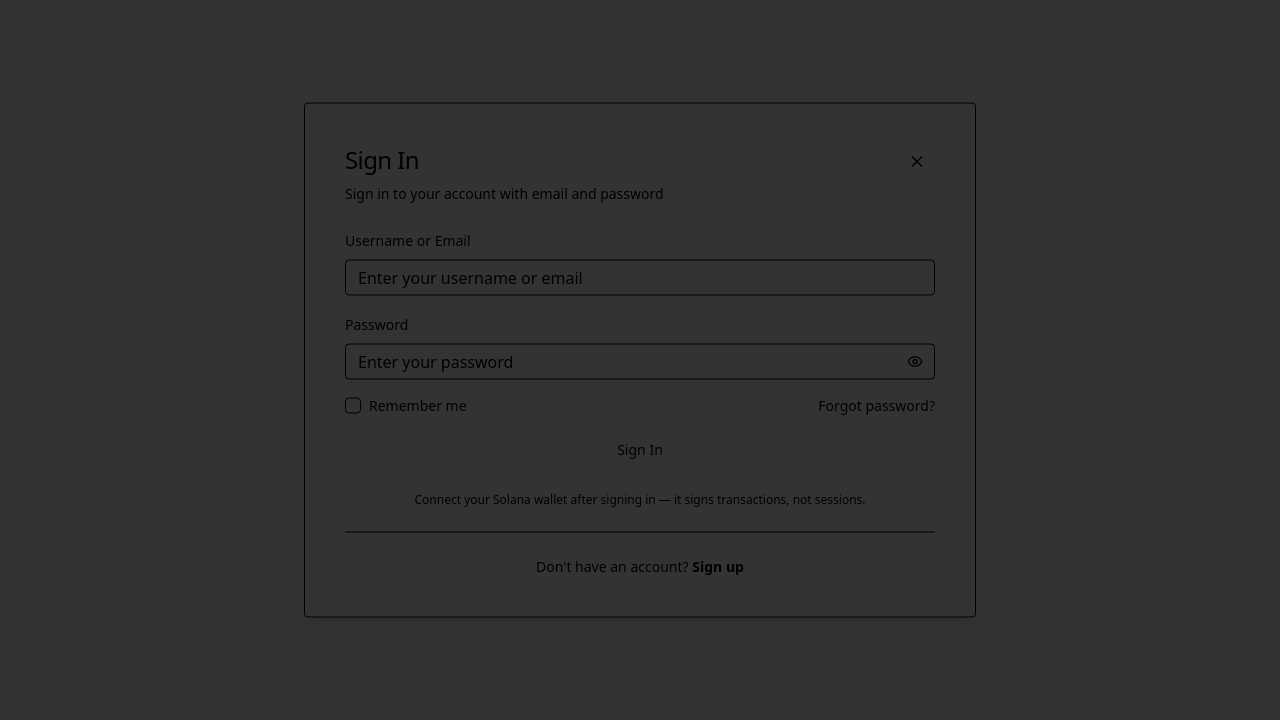
Test: WalletModal email sign-in failure › still logs a failure the UI cannot explain
This screenshot has width=1280, height=720.
In the field labelled "Username or Email": (640,278) [345, 260, 935, 296], type "testuser"
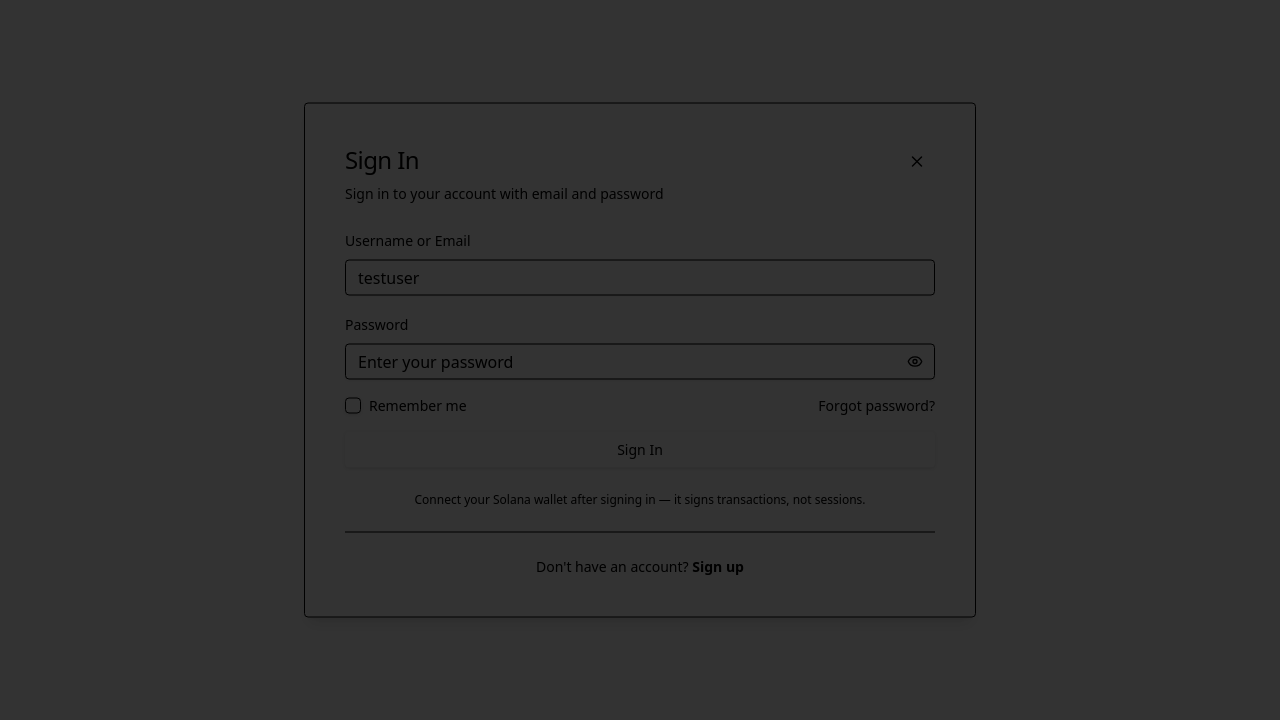
In the password field labelled "Password": (640,362) [345, 344, 935, 380], type "wrongpassword1!"
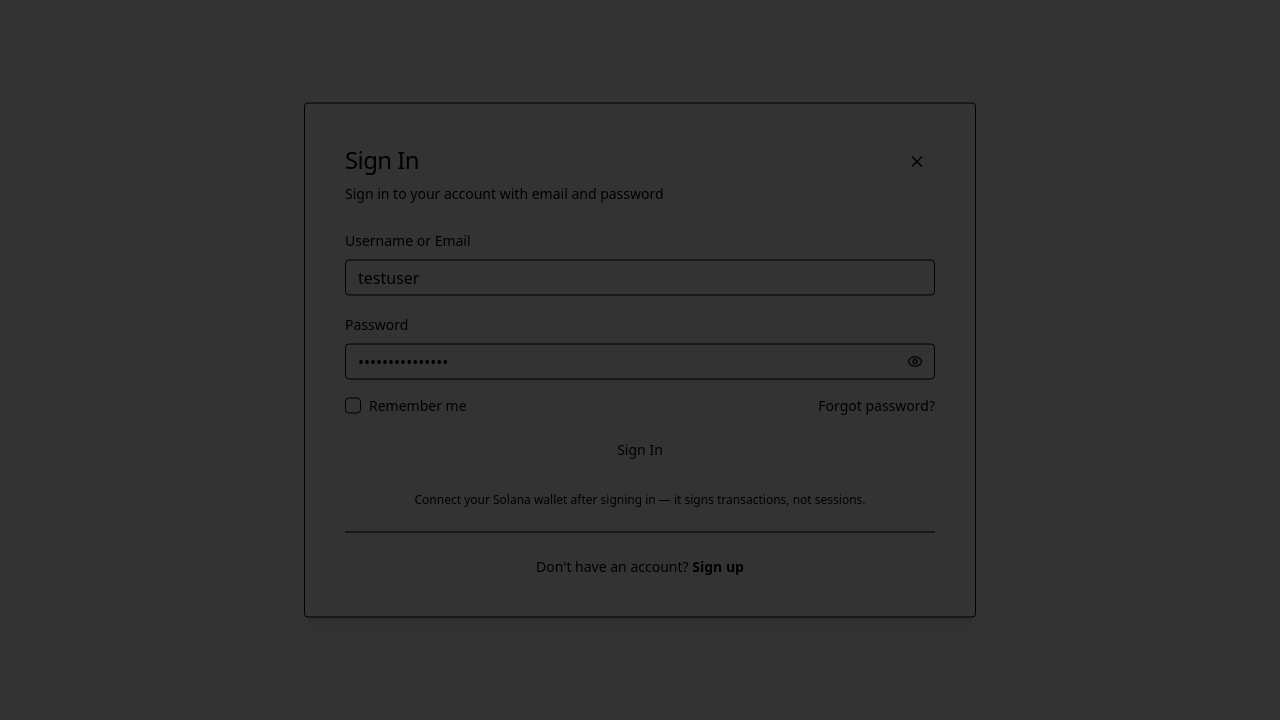
Click the button "Sign In": (640,450) [345, 432, 935, 468]
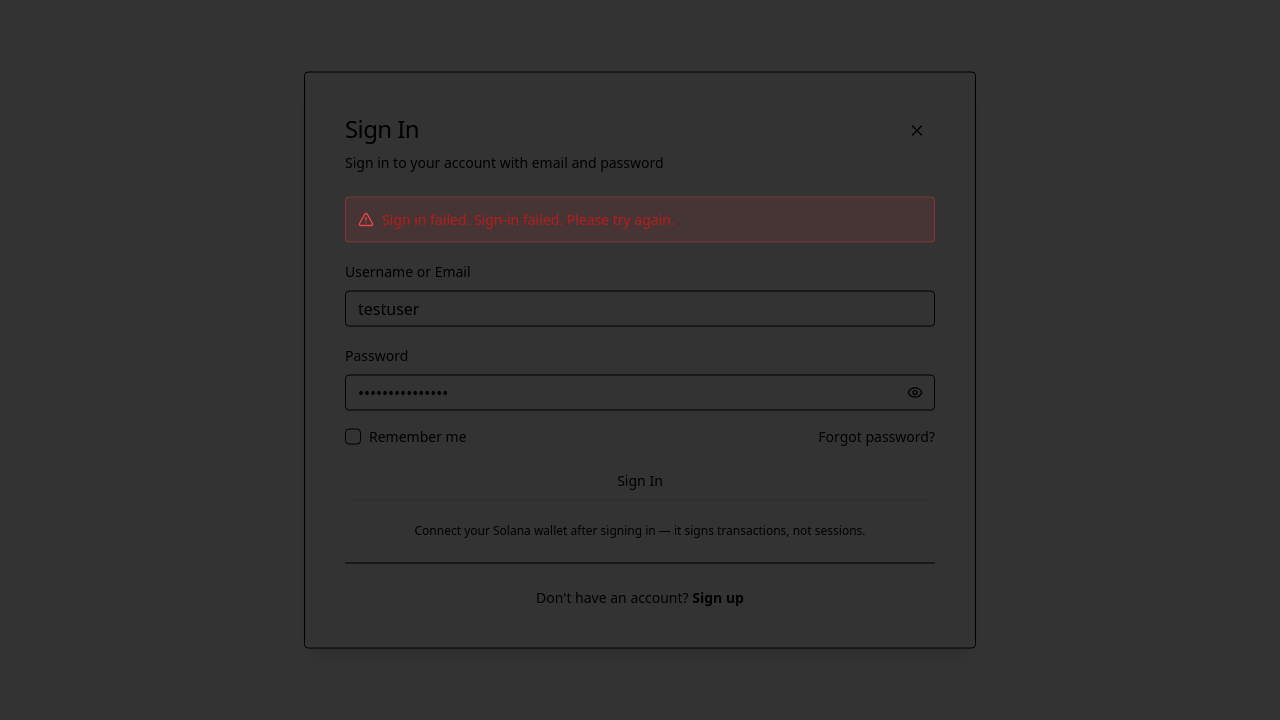
Expected: the message "Sign in failed. Sign-in failed. Please try again." is shown, [345, 196, 935, 242]
